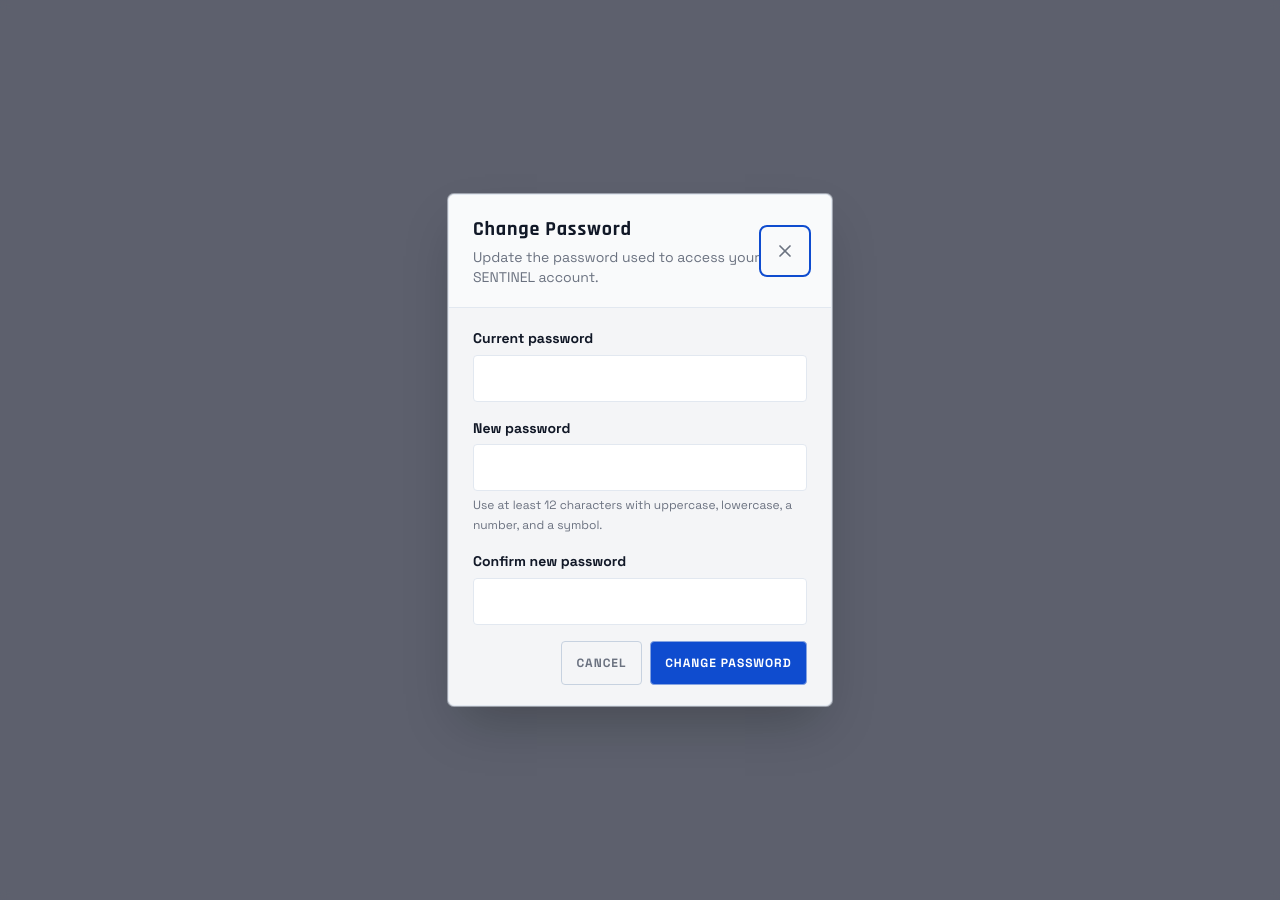
Scenario: ChangePasswordDialog › validates required values before sending a request
Click the button "Change Password" at coordinates (728, 663), box [650, 641, 807, 685]
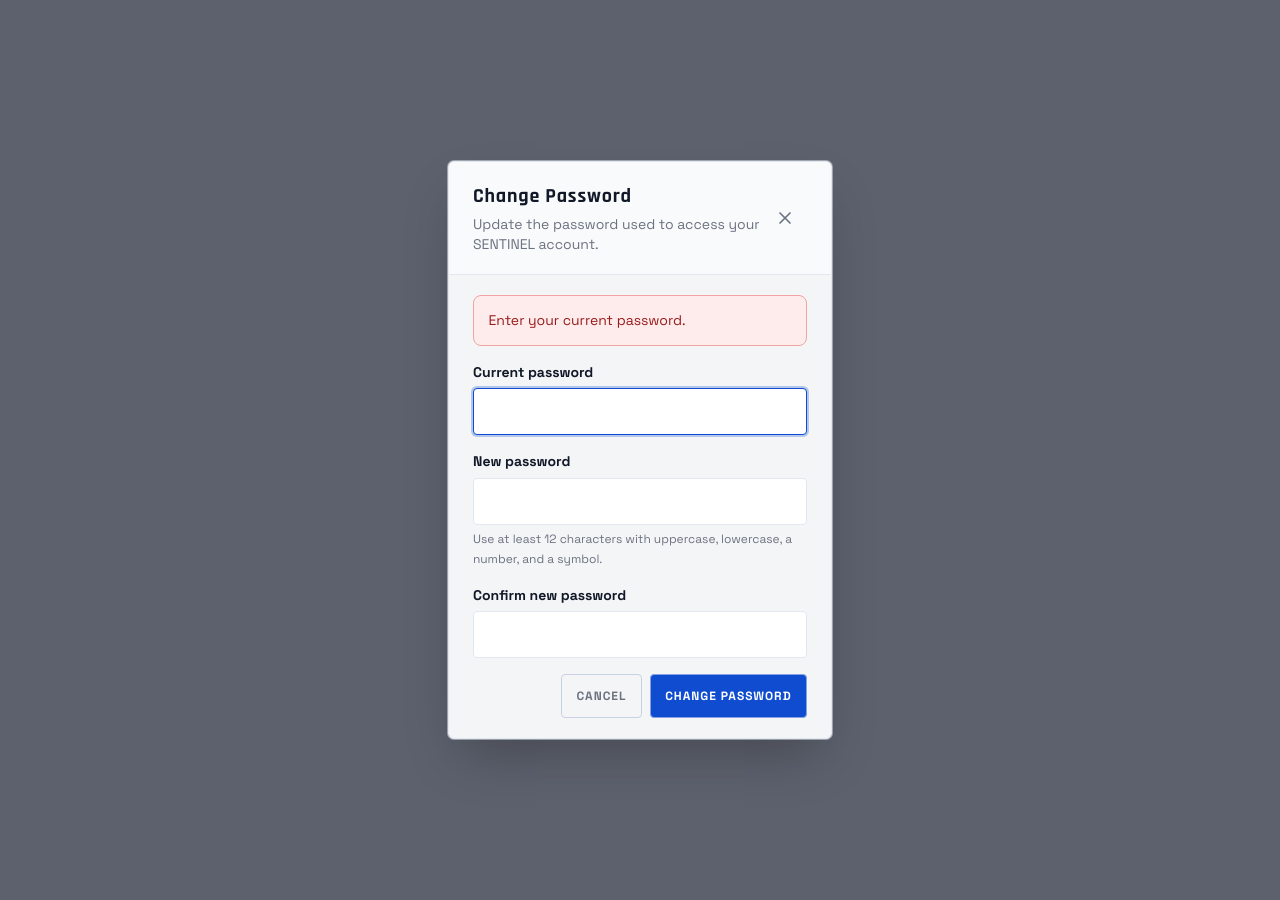
Expected: the message reads "Enter your current password.", [488, 311, 686, 329]
